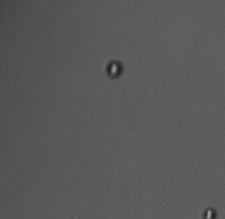Living Cell: (104, 58, 125, 79)
